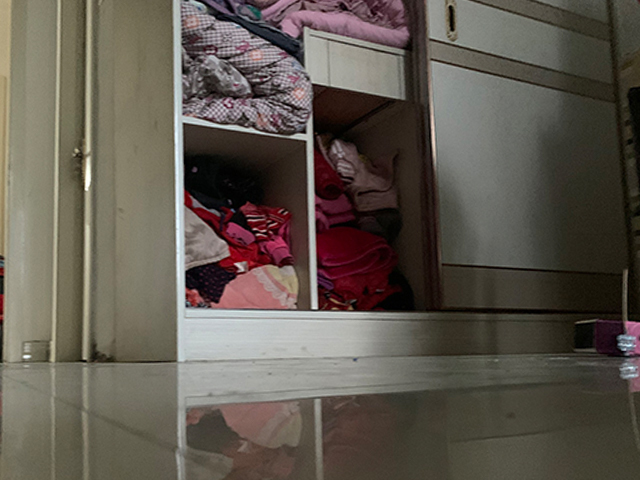cabinet: (95, 1, 640, 361)
